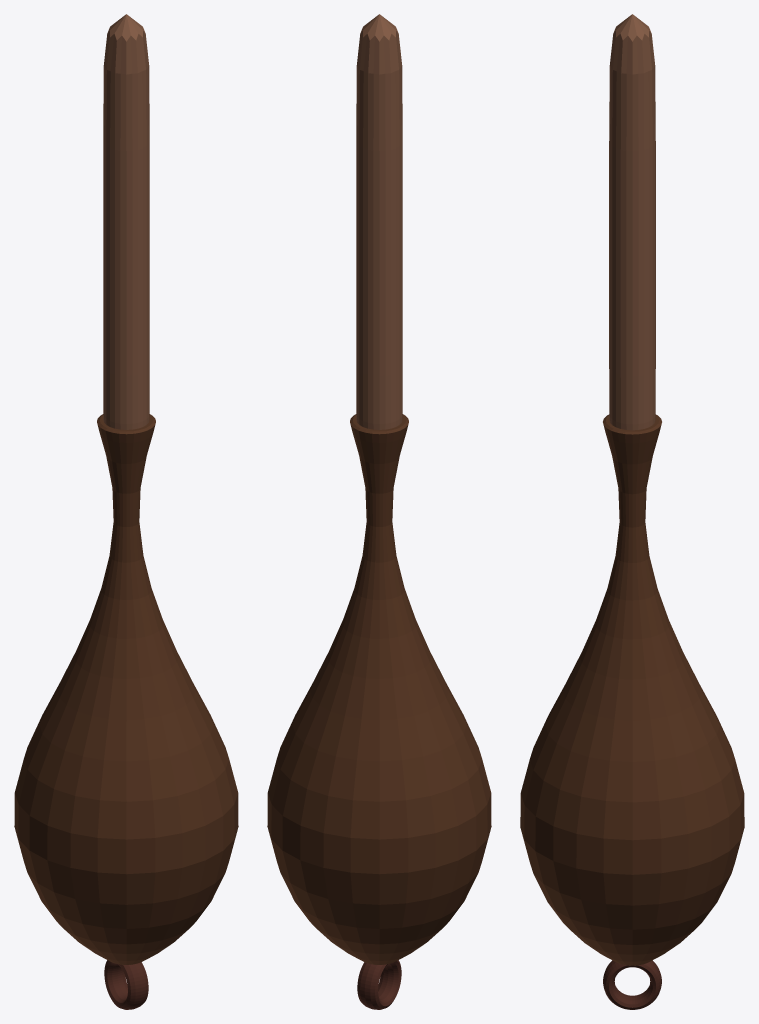
Rendered from Wand 911.glb.
3 renders of one model, left to right at view 1: azimuth 30°, elevation 25°; view 2: azimuth 150°, elevation 25°; view 3: azimuth 270°, elevation 25°, orthographic.
Visible parts, largest first — view 1: GeneratedWand; view 2: GeneratedWand; view 3: GeneratedWand.
Boxes of the visible parts, bbox=[...] form: GeneratedWand: bbox=[14, 14, 238, 1009]; GeneratedWand: bbox=[267, 14, 491, 1009]; GeneratedWand: bbox=[520, 14, 744, 1009].
Bounding box in the file's own units: 0.1026 × 0.5019 × 0.1026.
